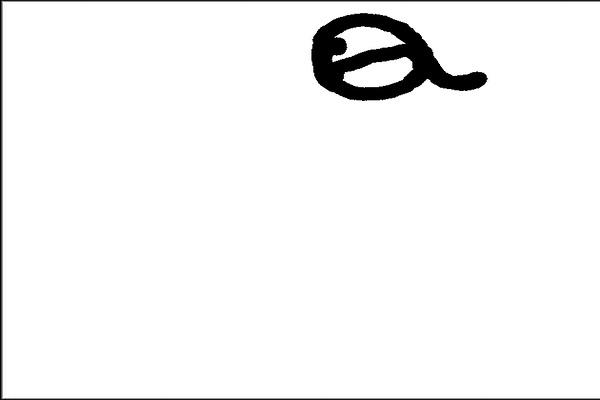Q: (305, 6, 487, 105)
